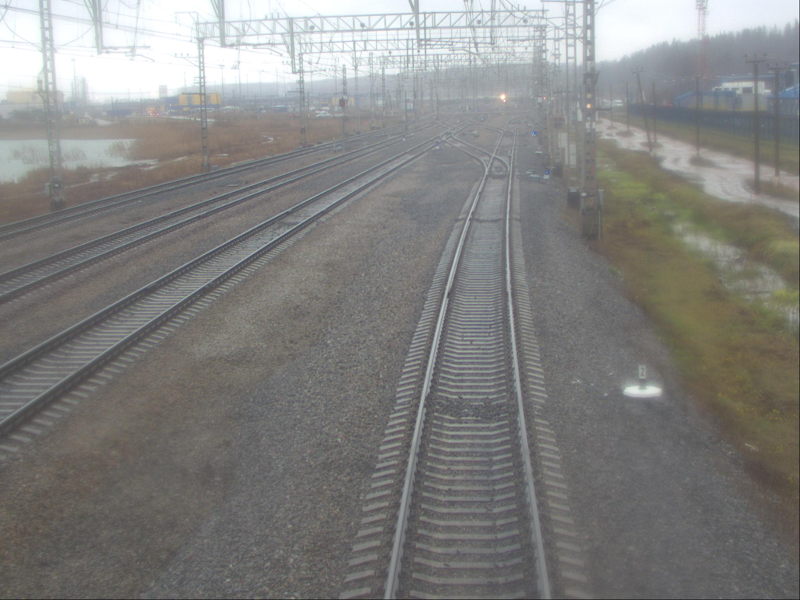straight: (483, 149, 513, 179)
